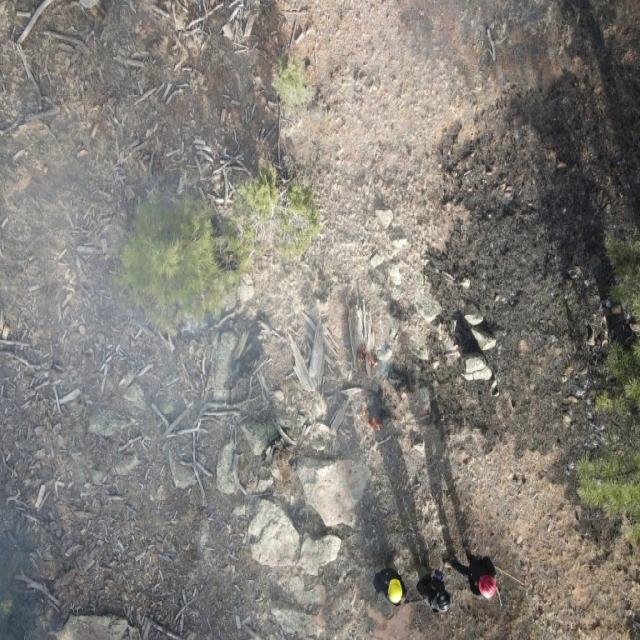fire: (357, 404, 382, 434), (356, 343, 379, 371)
smoke: (0, 0, 261, 640), (259, 236, 442, 576)
